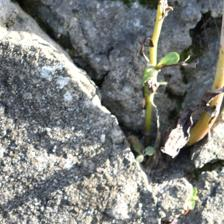Crack: (10, 4, 130, 155)
